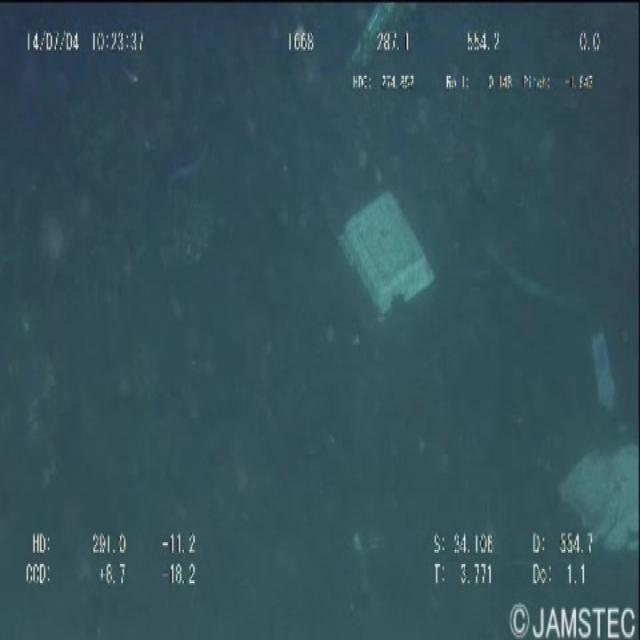Cutlery: (326, 178, 458, 340)
Glass: (332, 5, 418, 80)
Litter: (579, 331, 633, 420)
Plastic: (559, 445, 640, 560)
